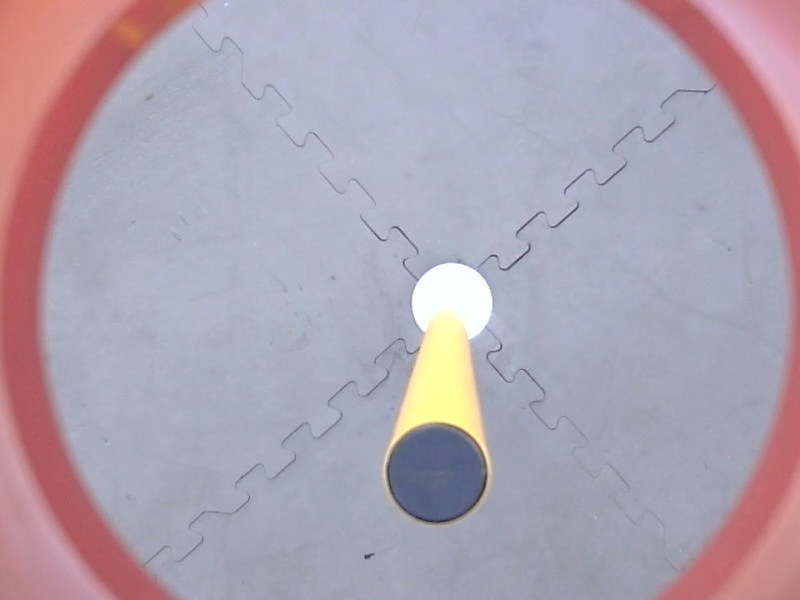tip: (378, 418, 497, 531)
